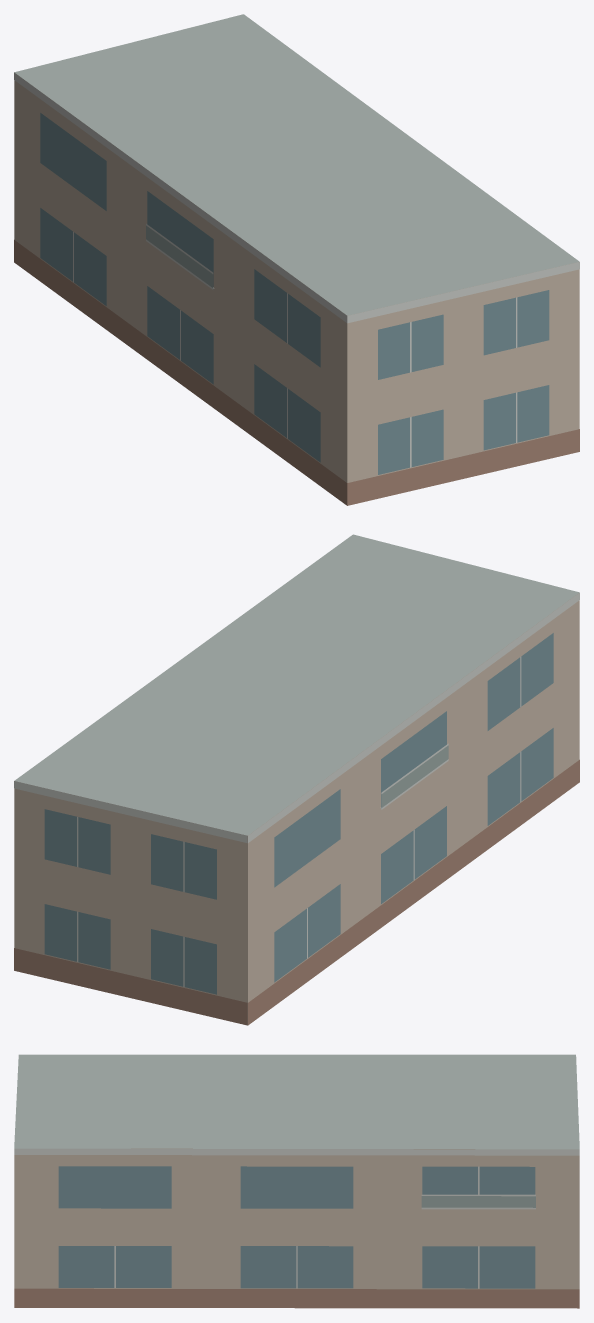
The model's file is survey-upis-32819425.glb.
3 renders of one model, top to bottom at view 1: azimuth 30°, elevation 25°; view 2: azimuth 150°, elevation 25°; view 3: azimuth 270°, elevation 25°, orthographic. The views are drawn at different scales.
Visible parts, largest first — view 1: survey-upis-32819425.tmp; view 2: survey-upis-32819425.tmp; view 3: survey-upis-32819425.tmp.
Part boxes in pixels (box(x1,y1,x2,y2)): survey-upis-32819425.tmp: box(14, 14, 579, 505); survey-upis-32819425.tmp: box(14, 534, 579, 1025); survey-upis-32819425.tmp: box(14, 1054, 579, 1308).
Bounding box in the file's own units: 7.86 × 6.1 × 19.66.
